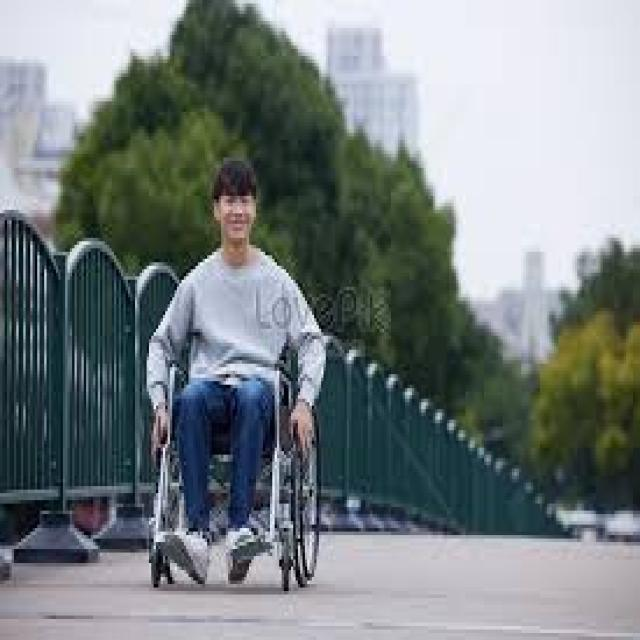wheelchair: (147, 157, 326, 592)
